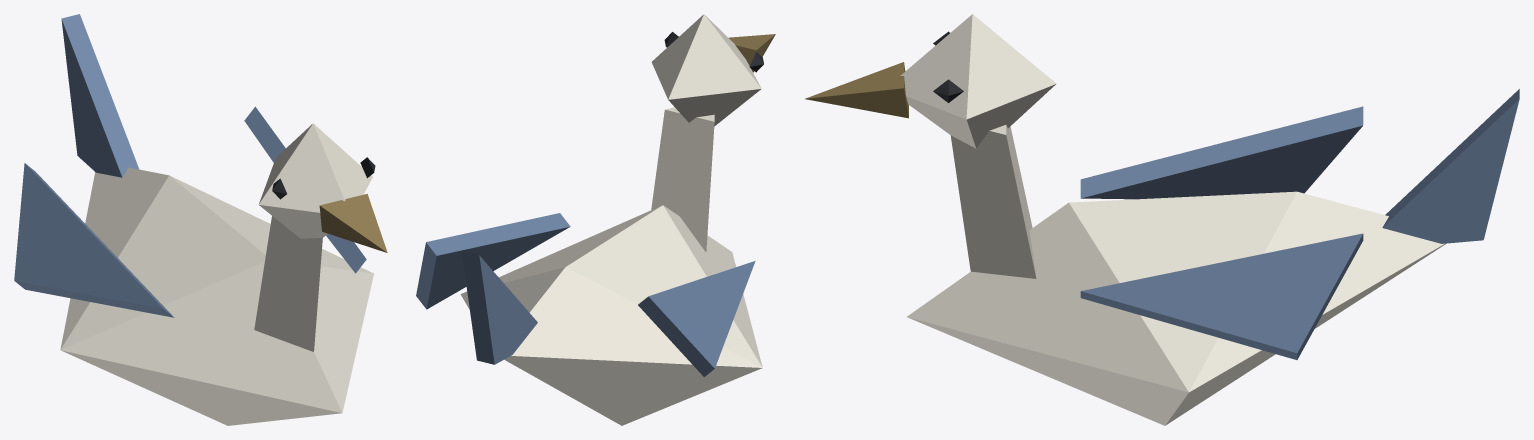
File: skins_origami2.glb
3 renders of one model, left to right at view 1: azimuth 30°, elevation 25°; view 2: azimuth 150°, elevation 25°; view 3: azimuth 270°, elevation 25°, orthographic. The views are drawn at different scales.
Parts seen in each view (by area): view 1: duck@origami_body__pe7e3d8, duck@origami_wings__p6f86a6, duck@origami_tail__p6f86a6, duck@origami_beak__p8f7c52, duck@origami_eye__p2b2d33; view 2: duck@origami_body__pe7e3d8, duck@origami_wings__p6f86a6, duck@origami_tail__p6f86a6, duck@origami_beak__p8f7c52; view 3: duck@origami_body__pe7e3d8, duck@origami_wings__p6f86a6, duck@origami_tail__p6f86a6, duck@origami_beak__p8f7c52.
Part boxes in pixels (bbox=[...]): duck@origami_body__pe7e3d8: bbox=[60, 123, 373, 425]; duck@origami_wings__p6f86a6: bbox=[14, 106, 366, 317]; duck@origami_tail__p6f86a6: bbox=[61, 14, 139, 177]; duck@origami_beak__p8f7c52: bbox=[319, 193, 387, 252]; duck@origami_eye__p2b2d33: bbox=[272, 157, 375, 199]; duck@origami_body__pe7e3d8: bbox=[460, 14, 762, 425]; duck@origami_wings__p6f86a6: bbox=[416, 213, 755, 376]; duck@origami_tail__p6f86a6: bbox=[461, 251, 537, 364]; duck@origami_beak__p8f7c52: bbox=[728, 34, 775, 72]; duck@origami_body__pe7e3d8: bbox=[900, 14, 1445, 425]; duck@origami_wings__p6f86a6: bbox=[1080, 106, 1363, 359]; duck@origami_tail__p6f86a6: bbox=[1382, 89, 1519, 243]; duck@origami_beak__p8f7c52: bbox=[805, 62, 908, 118].
Size of the model in its own units: 3.4 by 3.78 by 5.95.
